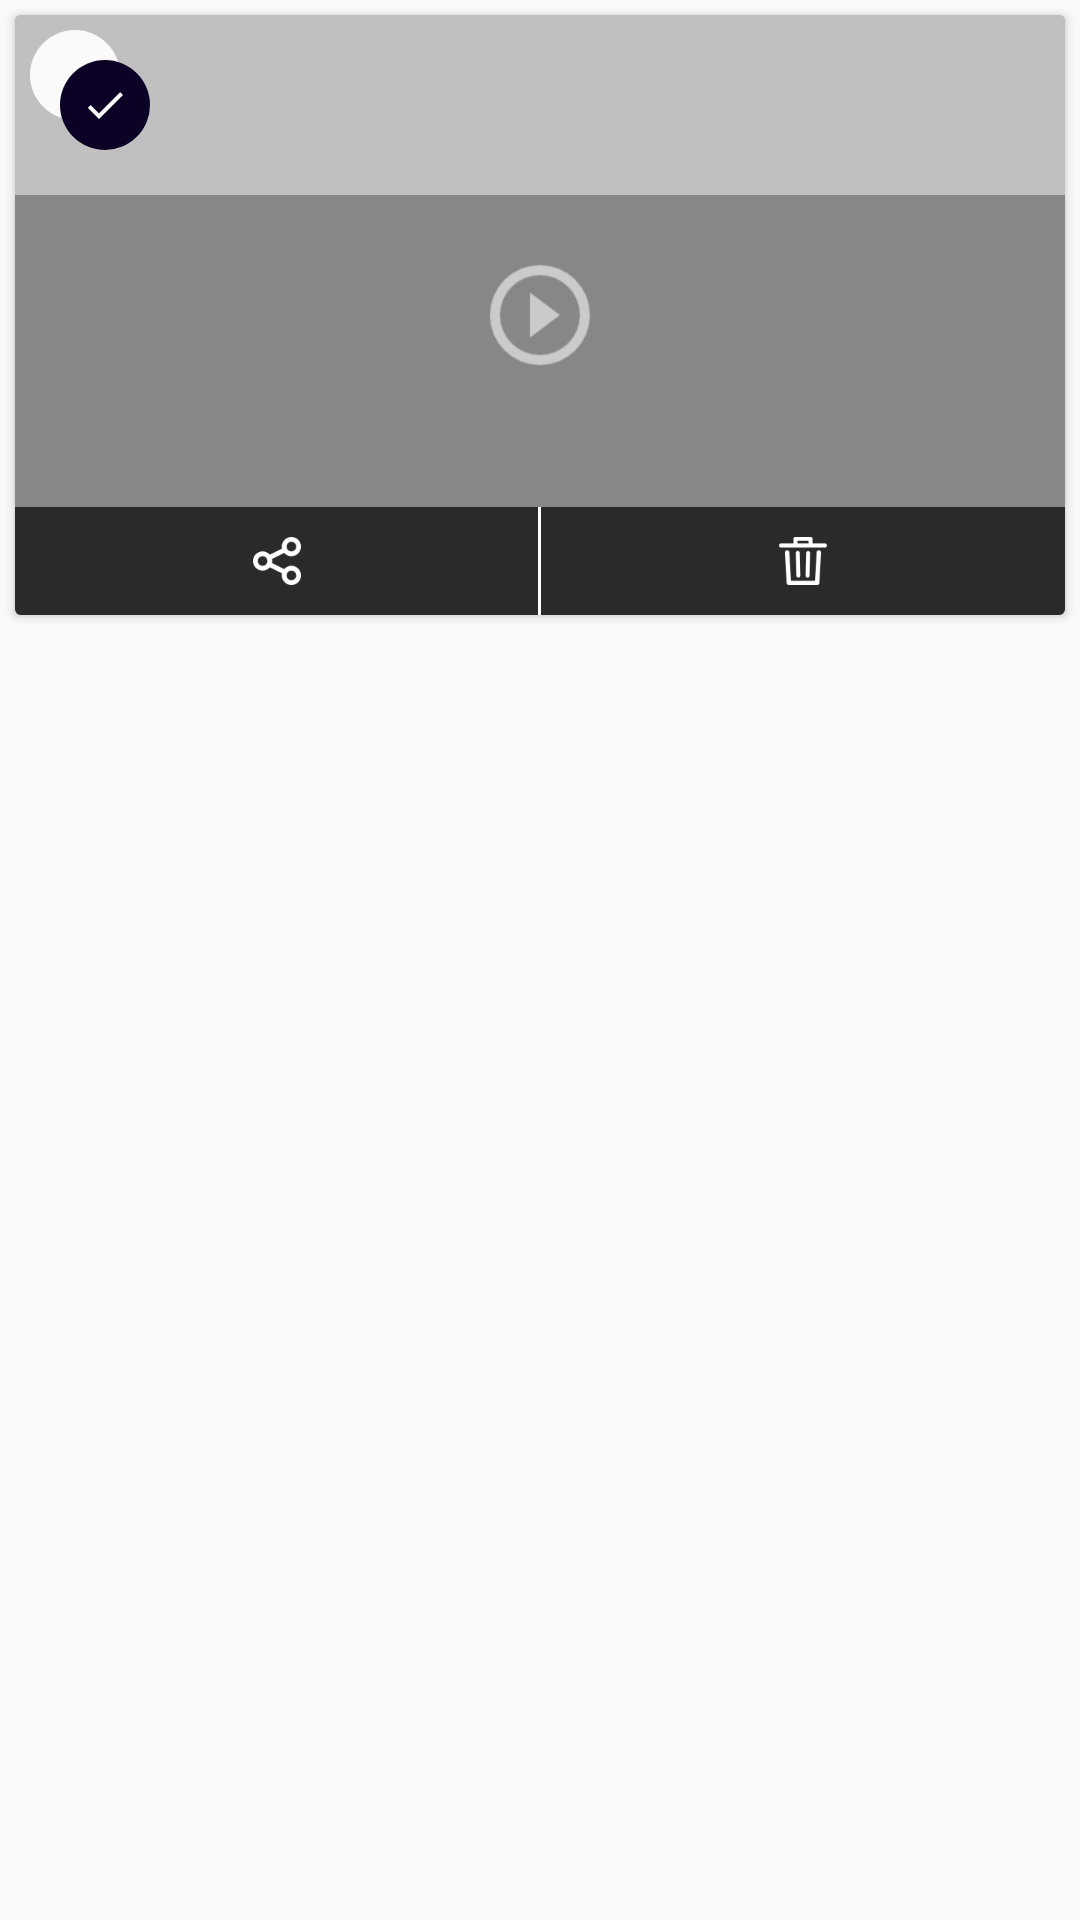

Screen size 1080*1920. Icon name, then its box in pixels as BBox(x1, y1, x2, y2):
check: BBox(60, 60, 150, 150)
play circle: BBox(490, 265, 590, 365)
